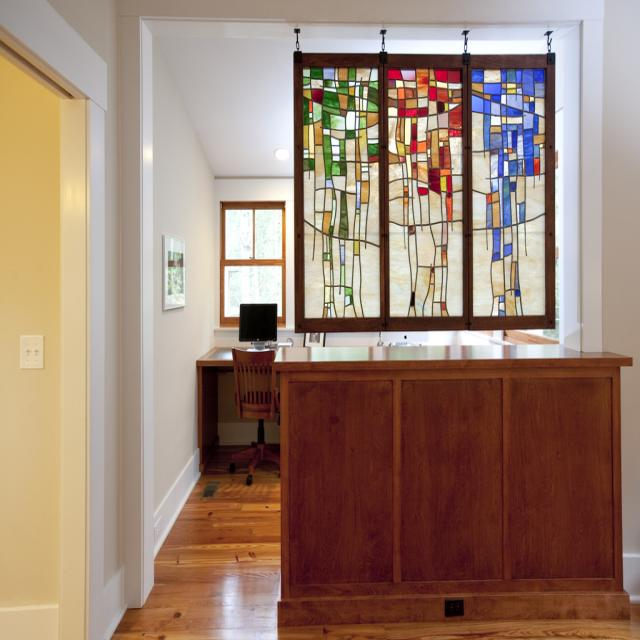chair: (228, 344, 281, 483)
desk: (248, 348, 624, 616)
tv: (238, 302, 277, 343)
